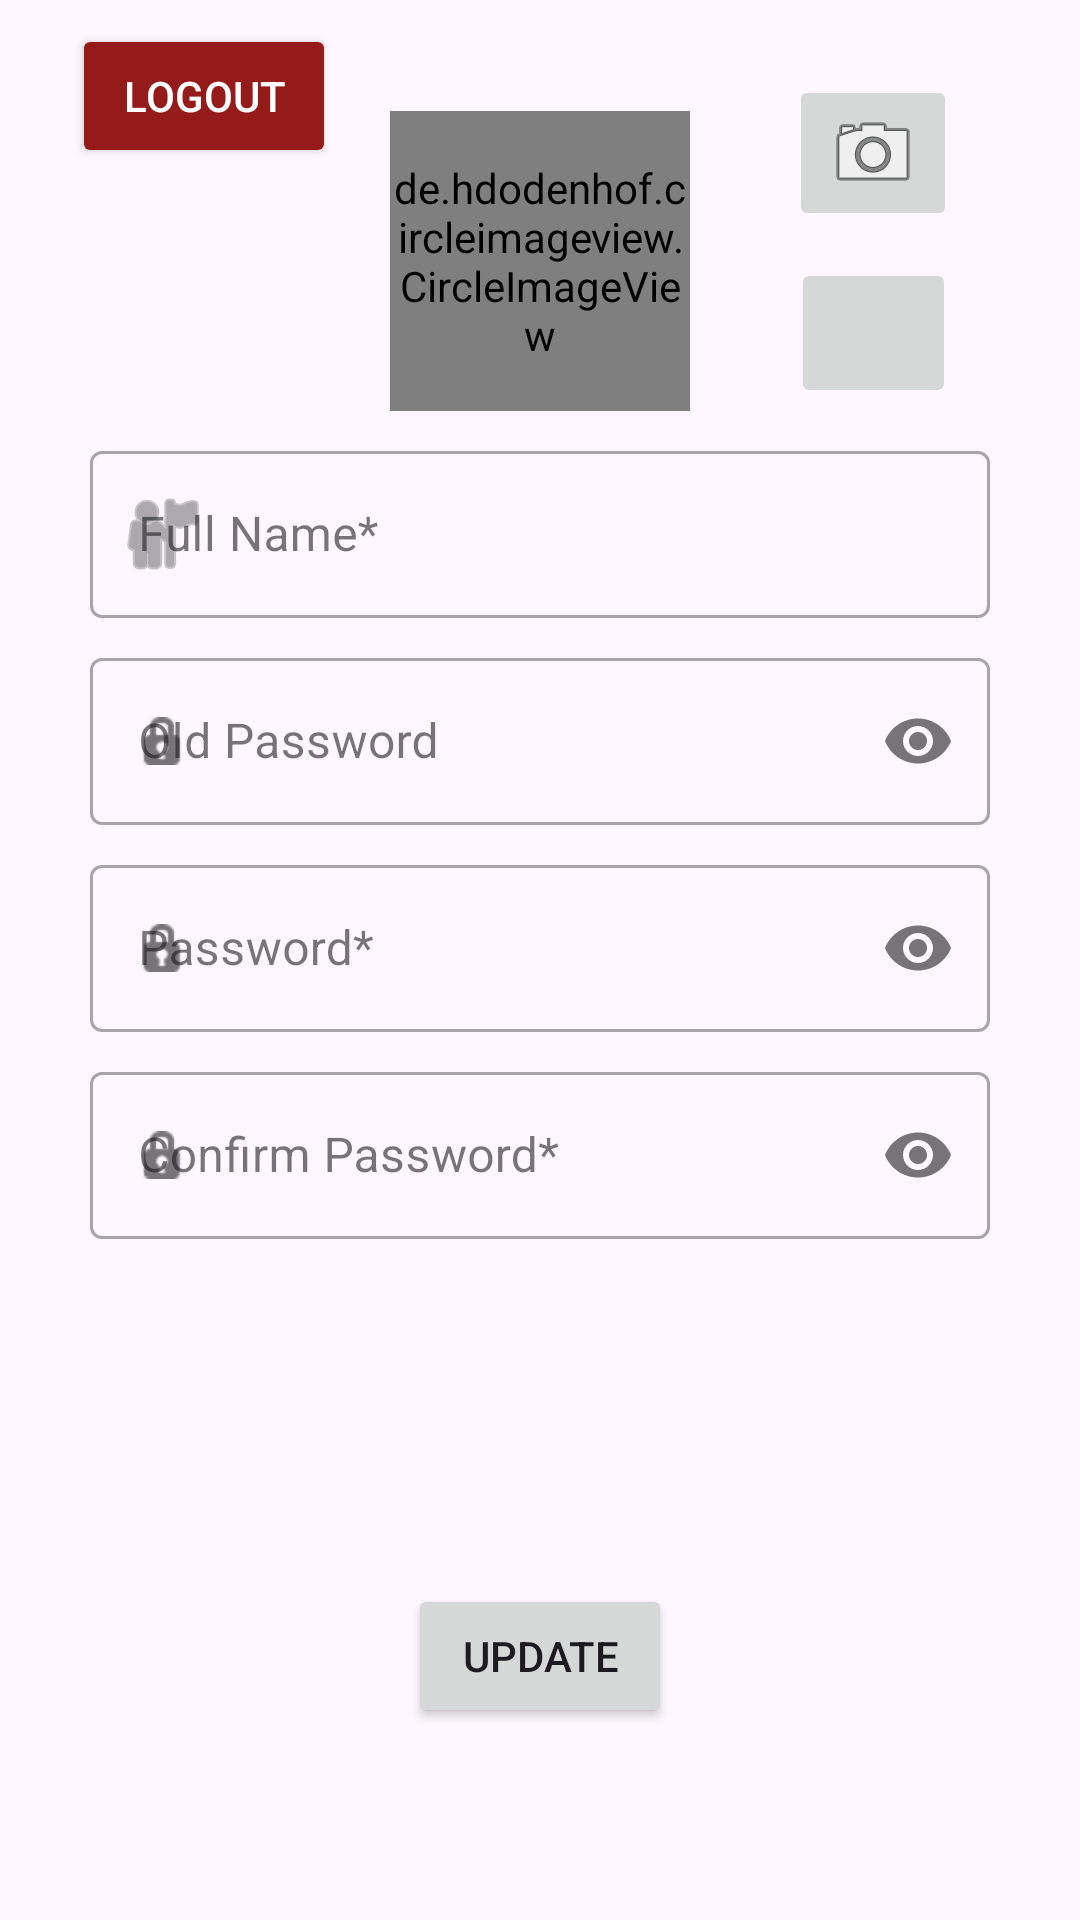

Named icons in this screenshot (1080x1920) and their centers, [x,y]:
Take photo: [873,153]
